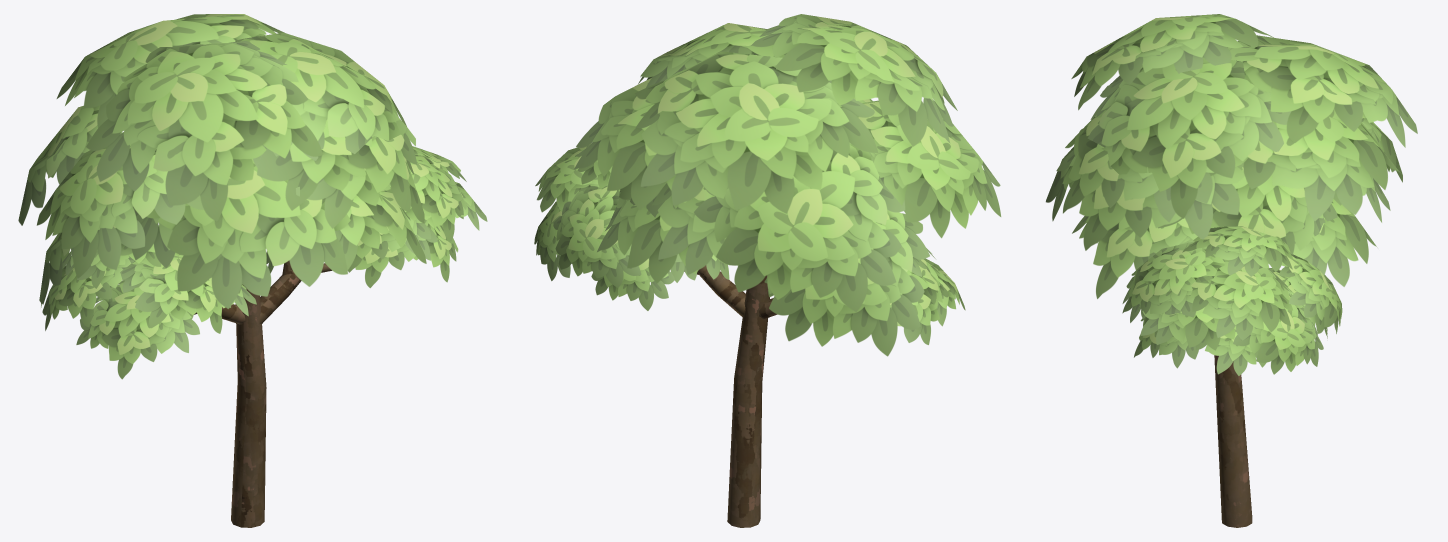
Rendered from Tree_7.glb.
3 views of the same model, side by side, from view 1: azimuth 30°, elevation 25°; view 2: azimuth 150°, elevation 25°; view 3: azimuth 270°, elevation 25° (orthographic). The views are drawn at different scales.
Parts seen in each view (by area): view 1: Tree_7; view 2: Tree_7; view 3: Tree_7.
Boxes of the visible parts, bbox=[...] form: Tree_7: bbox=[18, 14, 487, 527]; Tree_7: bbox=[534, 14, 1001, 527]; Tree_7: bbox=[1045, 14, 1417, 527].
Bounding box in the file's own units: 5.55 × 5.86 × 4.47.
Materials: 2 (2 with a texture image).
